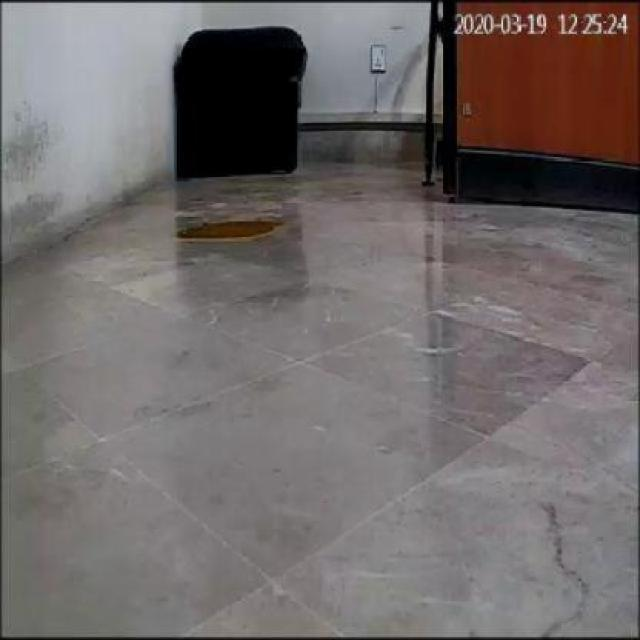spillage: (177, 219, 280, 246)
